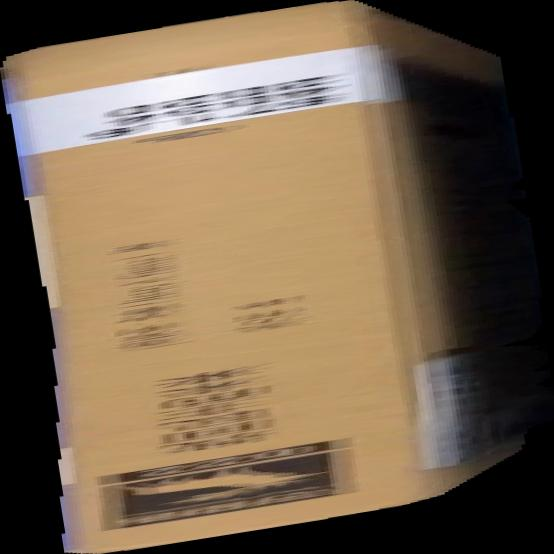reverse: (1, 1, 554, 554)
